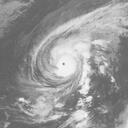cyclone: (28, 24, 100, 91)
